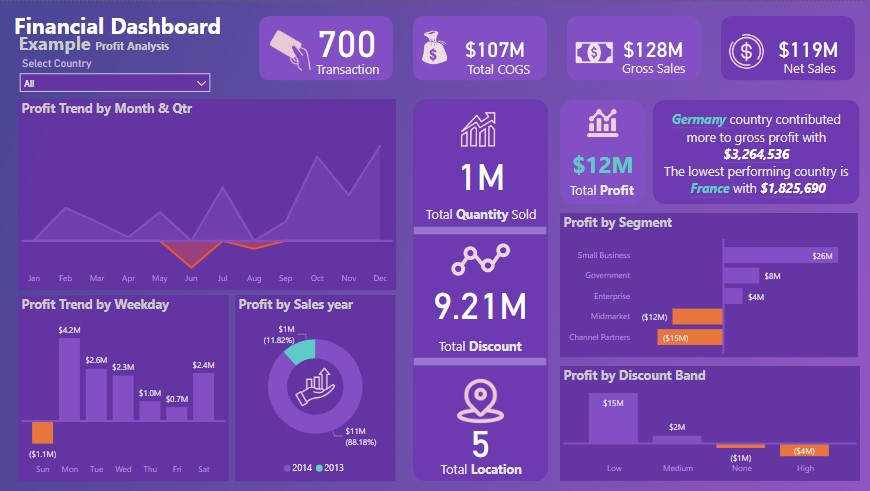

The dashboard page shown, as its layout file describes it:
{"tool":"powerbi","page":{"name":"Page 1","canvas":[1280,720],"ordinal":0},"visuals":[{"type":"shape","box":[381.6,21.6,197.3,95],"z":0},{"type":"shape","box":[607.7,21.6,197.3,95],"z":1000},{"type":"shape","box":[833.8,21.6,197.3,95],"z":2000},{"type":"shape","box":[1059.8,21.6,197.3,95],"z":3000},{"type":"image","box":[574.6,37.4,128.2,63.4],"z":4000},{"type":"image","box":[381.6,34.6,92.2,74.9],"z":5000},{"type":"image","box":[1036.8,41.8,122.4,66.2],"z":6000},{"type":"image","box":[833.8,53.3,79.2,46.1],"z":7000},{"type":"card","fields":{"Values":["All Measures.# Transaction"]},"box":[440.6,11.5,136.8,87.8],"z":8000},{"type":"textbox","box":[450.7,82.1,122.4,34.6],"z":9000},{"type":"card","fields":{"Values":["All Measures.COGS"]},"box":[662.4,37.4,132.5,64.8],"z":10000},{"type":"textbox","box":[672.5,82.2,122.4,34.6],"z":11000},{"type":"card","fields":{"Values":["All Measures.Gross Sales"]},"box":[887,24.5,146.9,87.8],"z":12000},{"type":"textbox","box":[899.9,80.6,122.4,34.6],"z":13000},{"type":"card","fields":{"Values":["All Measures.Net Sales"]},"box":[1097.3,33.1,182.9,72],"z":14000},{"type":"textbox","box":[1128.8,80.5,122.4,34.6],"z":15000},{"type":"textbox","box":[0,8.8,336.8,55.9],"z":16000},{"type":"textbox","box":[0,38.2,304.4,52.9],"z":17000},{"type":"areaChart","title":"Profit Trend by Month & Qtr","fields":{"Category":["Calender.Qtr","Calender.Month"],"Y":["All Measures.Profit Negative","All Measures.Profit Positive"]},"box":[26.5,144.1,555.9,280.9],"z":18000},{"type":"columnChart","title":"Profit Trend by Weekday","fields":{"Category":["Calender.Weekday"],"Y":["All Measures.Total Profit"]},"box":[25.9,432,309.6,273.6],"z":19000},{"type":"donutChart","title":"Profit by Sales year","fields":{"Category":["Calender.Year"],"Y":["All Measures.Total Profit"]},"box":[345.6,432,236.2,273.6],"z":20000},{"type":"shape","box":[607.7,144,198.7,561.6],"z":21000},{"type":"image","box":[619.2,155.5,167,66.2],"z":22000},{"type":"image","box":[653.8,344.2,105.1,72],"z":23000},{"type":"image","box":[636.5,547.2,139.7,82.1],"z":24000},{"type":"shape","box":[607.7,331.2,197.3,13],"z":25000},{"type":"shape","box":[607.7,524.2,197.3,13],"z":26000},{"type":"textbox","box":[609.1,295.2,197.3,34.6],"z":27000},{"type":"textbox","box":[607.7,489.6,197.3,34.6],"z":28000},{"type":"textbox","box":[614.9,671,185.8,34.6],"z":29000},{"type":"card","fields":{"Values":["Sum(financials.Units Sold)"]},"box":[609.1,207.4,197.3,87.8],"z":30000},{"type":"card","fields":{"Values":["All Measures.Total Discount"]},"box":[607.7,397.4,197.3,87.8],"z":31000},{"type":"card","fields":{"Values":["Count(financials.Country)"]},"box":[607.7,600.5,197.3,87.8],"z":32000},{"type":"shape","box":[823.7,145.4,125.3,152.6],"z":33000},{"type":"image","box":[852.5,151.2,66.2,56.2],"z":34000},{"type":"textbox","box":[823.7,260.6,122.4,34.6],"z":35000},{"type":"card","fields":{"Values":["All Measures.Total Profit"]},"box":[826.6,207.4,119.5,64.8],"z":36000},{"type":"shape","box":[960.5,145.4,303.8,152.6],"z":37000},{"type":"barChart","title":"Profit by Segment","fields":{"Y":["All Measures.Total Profit"],"Category":["financials.Segment"]},"box":[823.5,311.8,438.2,211.8],"z":38000},{"type":"columnChart","title":"Profit  by Discount Band","fields":{"Y":["All Measures.Total Profit"],"Category":["financials.Discount Band"]},"box":[823.5,536.8,441.2,169.1],"z":39000},{"type":"slicer","fields":{"Values":["financials.Country"]},"box":[19.1,76.5,300,80.9],"z":40000},{"type":"image","box":[407.5,531.4,112.3,73.4],"z":41000},{"type":"textbox","box":[964.7,155.9,300,148.5],"z":42000}]}

Visuals, with their boxes in screenshot pixels (x1, y1, x2, y2), scaled from the page's 1280x720 canvas onto the 870x491 screenshot:
shape: locate(259, 15, 393, 80)
shape: locate(413, 15, 547, 80)
shape: locate(567, 15, 701, 80)
shape: locate(720, 15, 854, 80)
image: locate(391, 26, 478, 69)
image: locate(259, 24, 322, 75)
image: locate(705, 29, 788, 74)
image: locate(567, 36, 621, 68)
card - All Measures.# Transaction: locate(299, 8, 392, 68)
textbox: locate(306, 56, 390, 80)
card - All Measures.COGS: locate(450, 26, 540, 70)
textbox: locate(457, 56, 540, 80)
card - All Measures.Gross Sales: locate(603, 17, 703, 77)
textbox: locate(612, 55, 695, 79)
card - All Measures.Net Sales: locate(746, 23, 869, 72)
textbox: locate(767, 55, 850, 78)
textbox: locate(0, 6, 229, 44)
textbox: locate(0, 26, 207, 62)
"Profit Trend by Month & Qtr" areaChart: locate(18, 98, 396, 290)
"Profit Trend by Weekday" columnChart: locate(18, 295, 228, 481)
"Profit by Sales year" donutChart: locate(235, 295, 395, 481)
shape: locate(413, 98, 548, 481)
image: locate(421, 106, 534, 151)
image: locate(444, 235, 516, 284)
image: locate(433, 373, 528, 429)
shape: locate(413, 226, 547, 235)
shape: locate(413, 357, 547, 366)
textbox: locate(414, 201, 548, 225)
textbox: locate(413, 334, 547, 357)
textbox: locate(418, 458, 544, 481)
card - Sum(financials.Units Sold): locate(414, 141, 548, 201)
card - All Measures.Total Discount: locate(413, 271, 547, 331)
card - Count(financials.Country): locate(413, 410, 547, 469)
shape: locate(560, 99, 645, 203)
image: locate(579, 103, 624, 141)
textbox: locate(560, 178, 643, 201)
card - All Measures.Total Profit: locate(562, 141, 643, 186)
shape: locate(653, 99, 859, 203)
"Profit by Segment" barChart: locate(560, 213, 858, 357)
"Profit  by Discount Band" columnChart: locate(560, 366, 860, 481)
slicer - financials.Country: locate(13, 52, 217, 107)
image: locate(277, 362, 353, 412)
textbox: locate(656, 106, 860, 208)
